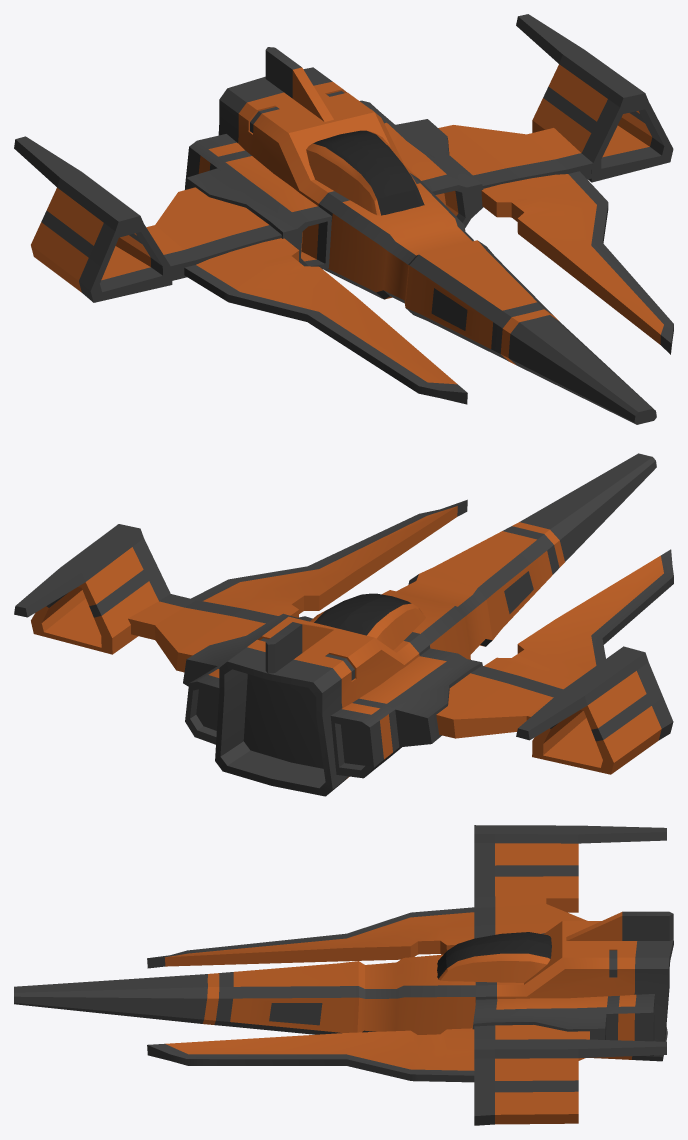
The model's file is Spaceship_RaeTheRedPanda.gltf.
3 views of the same model, one above another, from view 1: azimuth 30°, elevation 25°; view 2: azimuth 150°, elevation 25°; view 3: azimuth 270°, elevation 25° (orthographic). The views are drawn at different scales.
Parts seen in each view (by area): view 1: Spacecraft; view 2: Spacecraft; view 3: Spacecraft.
Part boxes in pixels (box(x1,y1,x2,y2)): Spacecraft: box(14, 14, 673, 424); Spacecraft: box(14, 453, 673, 796); Spacecraft: box(14, 825, 673, 1125).
Size of the model in its own units: 9.95 by 2.35 by 11.17.
Materials: 1 (1 with a texture image).
